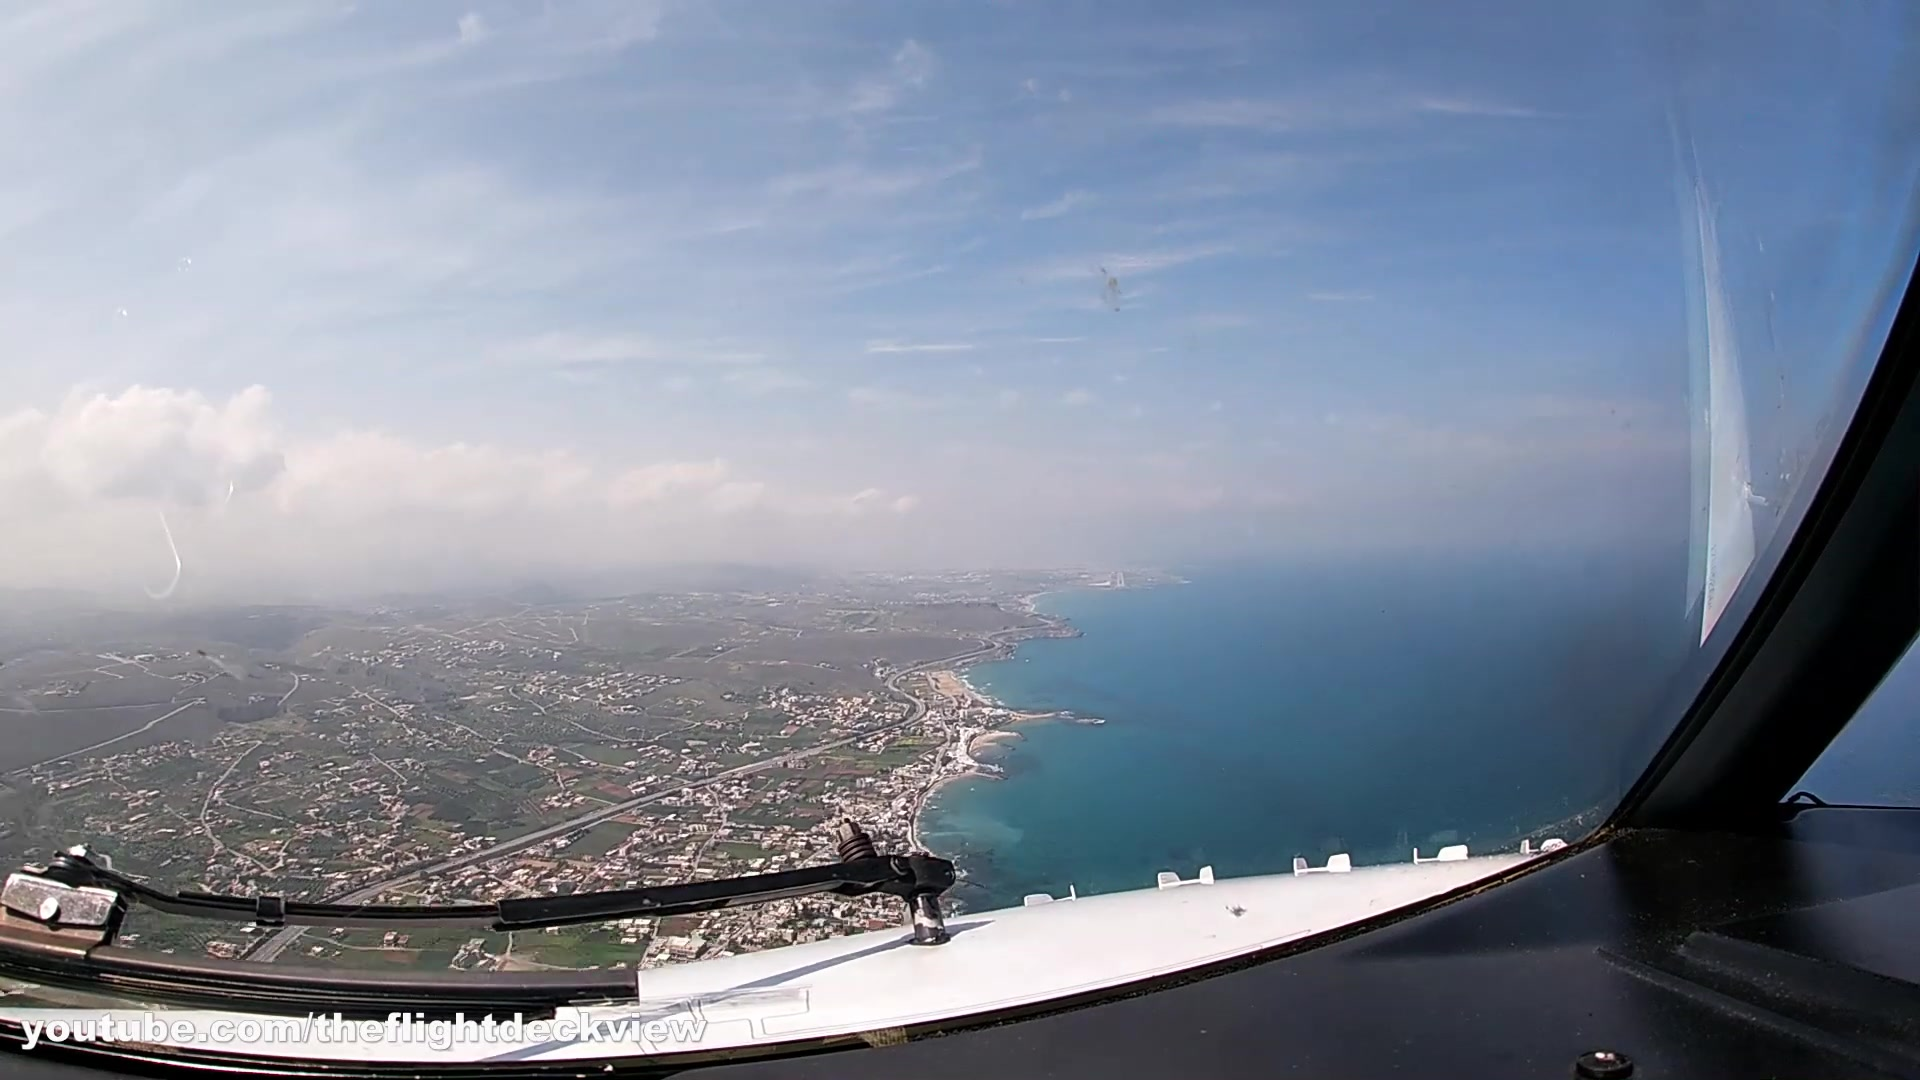runway: (1116, 570, 1126, 588)
